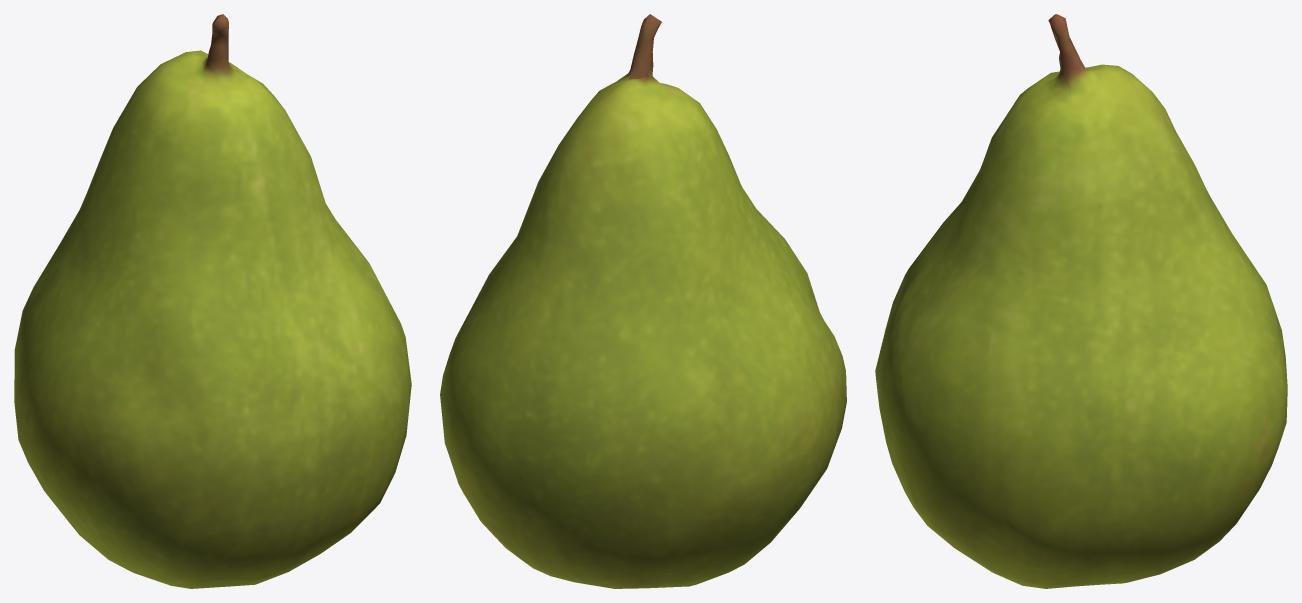
The model's file is SM_Food_SM_Pear.fbx.
The picture shows the model from 3 angles, left to right: view 1: azimuth 30°, elevation 25°; view 2: azimuth 150°, elevation 25°; view 3: azimuth 270°, elevation 25°; orthographic projection.
Parts seen in each view (by area): view 1: SM_Food_SM_Pear_LOD0; view 2: SM_Food_SM_Pear_LOD0; view 3: SM_Food_SM_Pear_LOD0.
Boxes of the visible parts, x1,y1,x2,y2 form: SM_Food_SM_Pear_LOD0: [14, 14, 411, 588]; SM_Food_SM_Pear_LOD0: [440, 14, 846, 588]; SM_Food_SM_Pear_LOD0: [875, 14, 1287, 588].
Bounding box in the file's own units: 9.47 × 9.9 × 14.69.
1 material, 1 textured.
